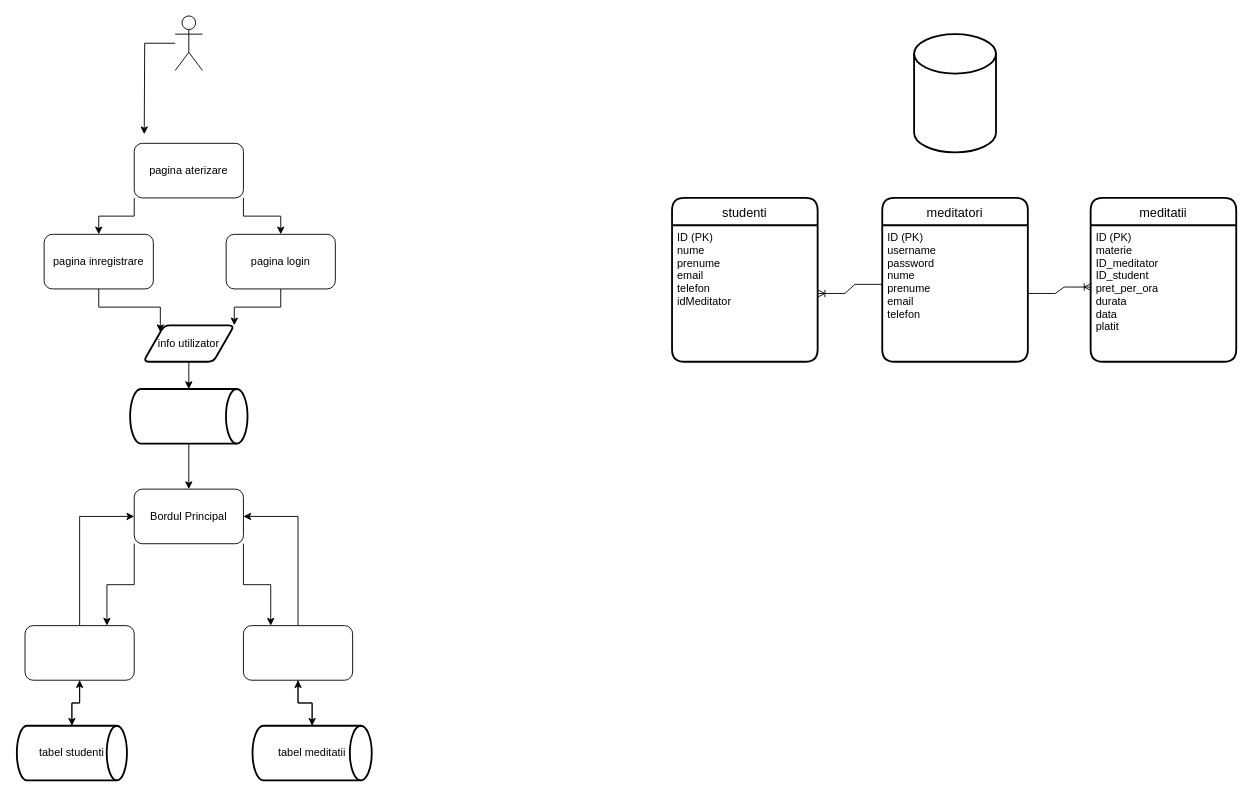
Image size: 1252x797. Some labels were removed from this diagram. Each missing label, with the centre of its shape:
Actor: pixel 188 43
Baza date MySQL: pixel 954 93
Gestionare meditatii: pixel 298 652
Gestionare Studenti: pixel 79 652
tabel utilizator: pixel 188 416
